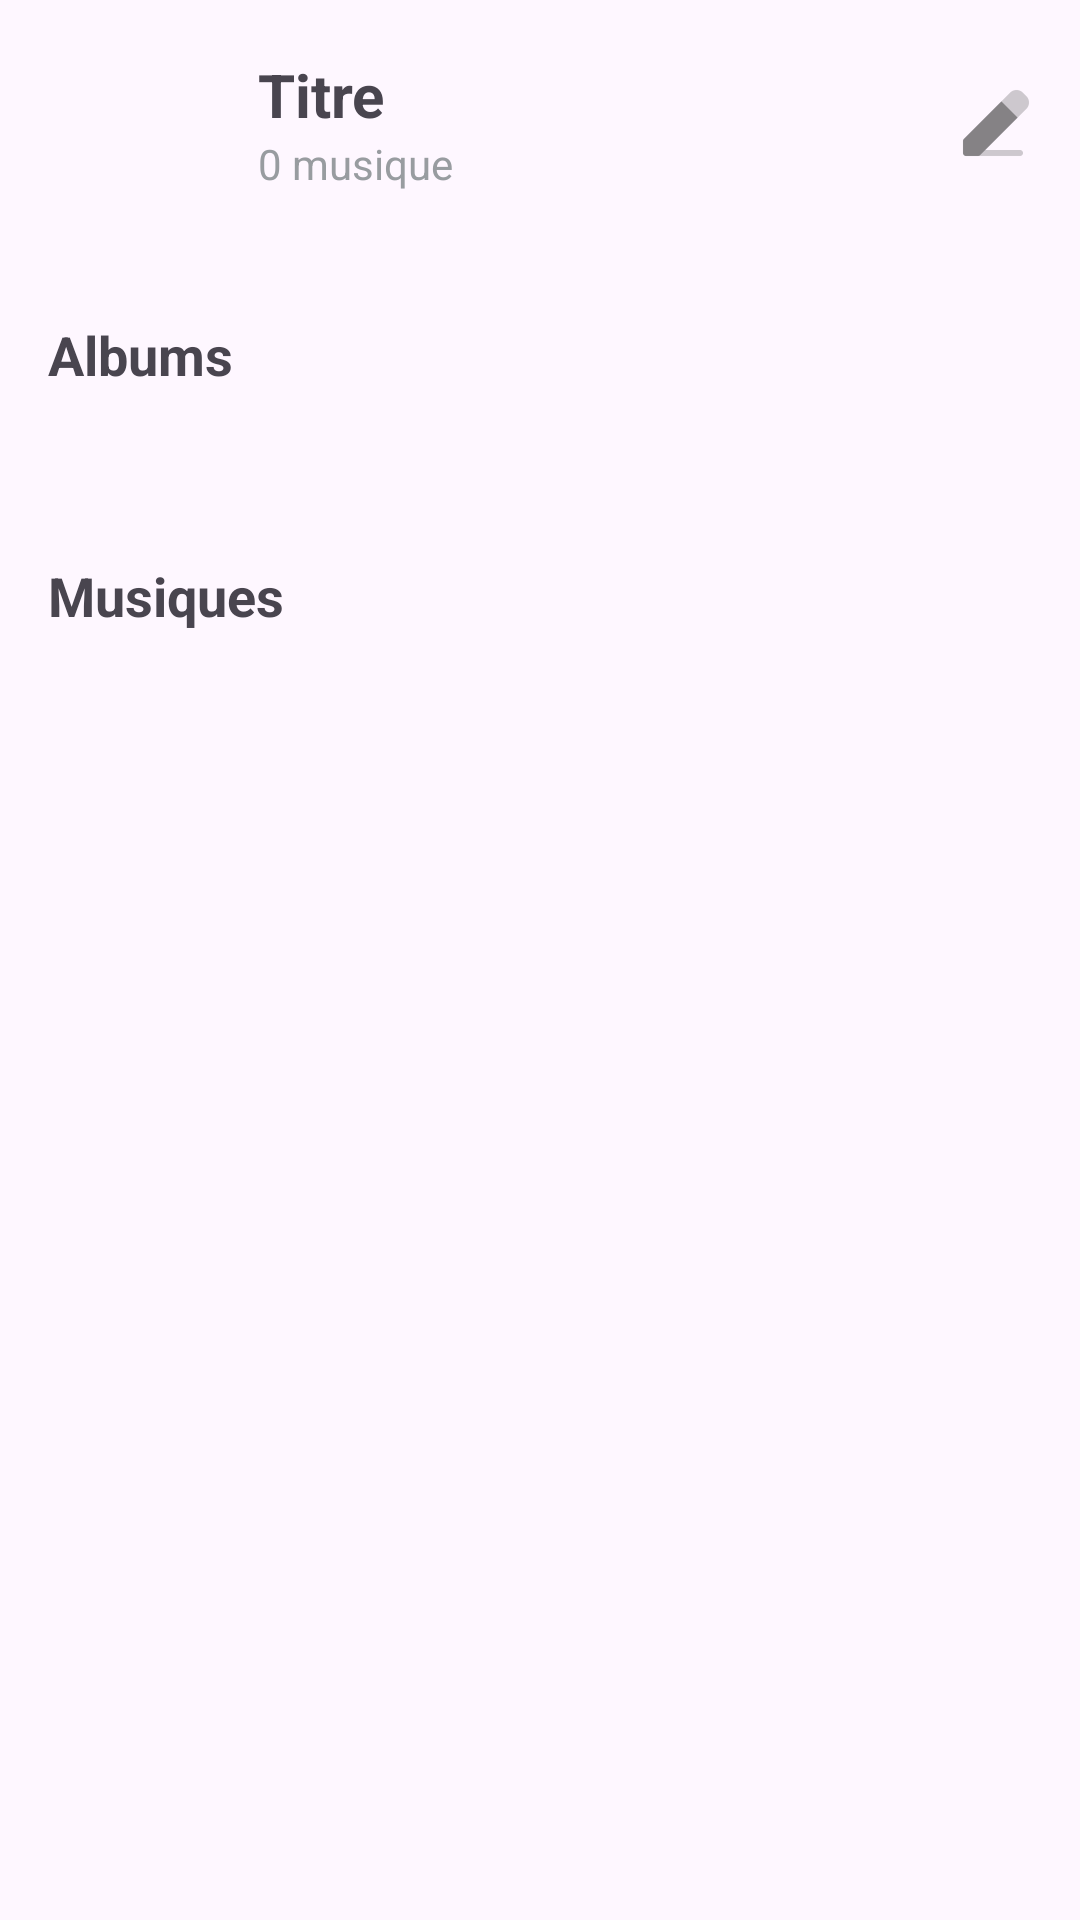

Screen size 1080px x 1920px. Icon name, then its box in pixels as (x1, y1, x2, y2):
modify: (963, 90, 1029, 156)
